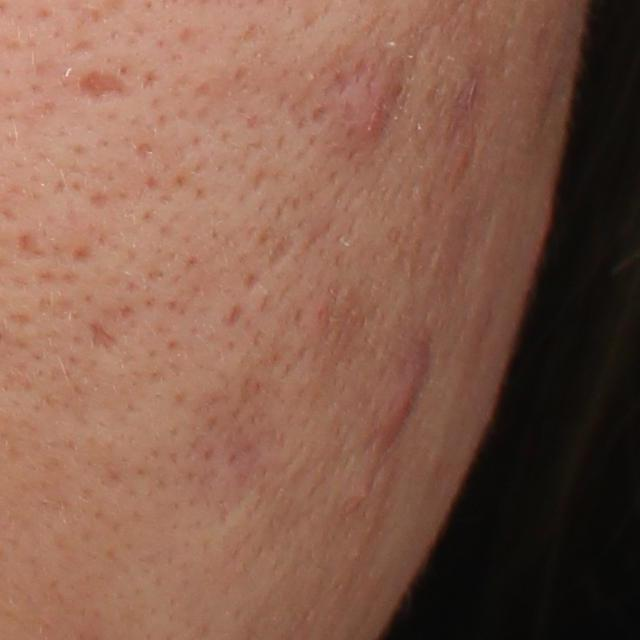atrophic_scar: (261, 230, 294, 277), (80, 71, 131, 101), (14, 229, 47, 263), (89, 321, 118, 352), (225, 299, 245, 326)
papule: (343, 57, 409, 147), (369, 356, 425, 458)
